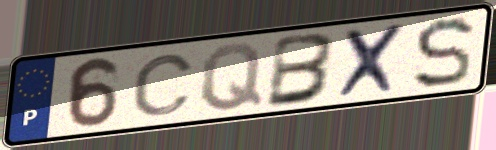6: (65, 54, 122, 131)
B: (263, 31, 340, 111)
C: (130, 52, 197, 119)
Q: (198, 41, 265, 114)
S: (410, 15, 477, 92)
X: (334, 20, 412, 102)
